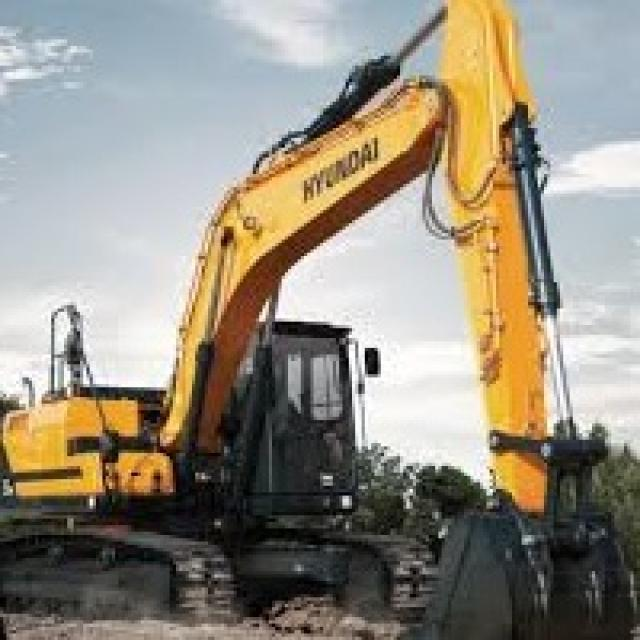excavator: (0, 284, 410, 637)
